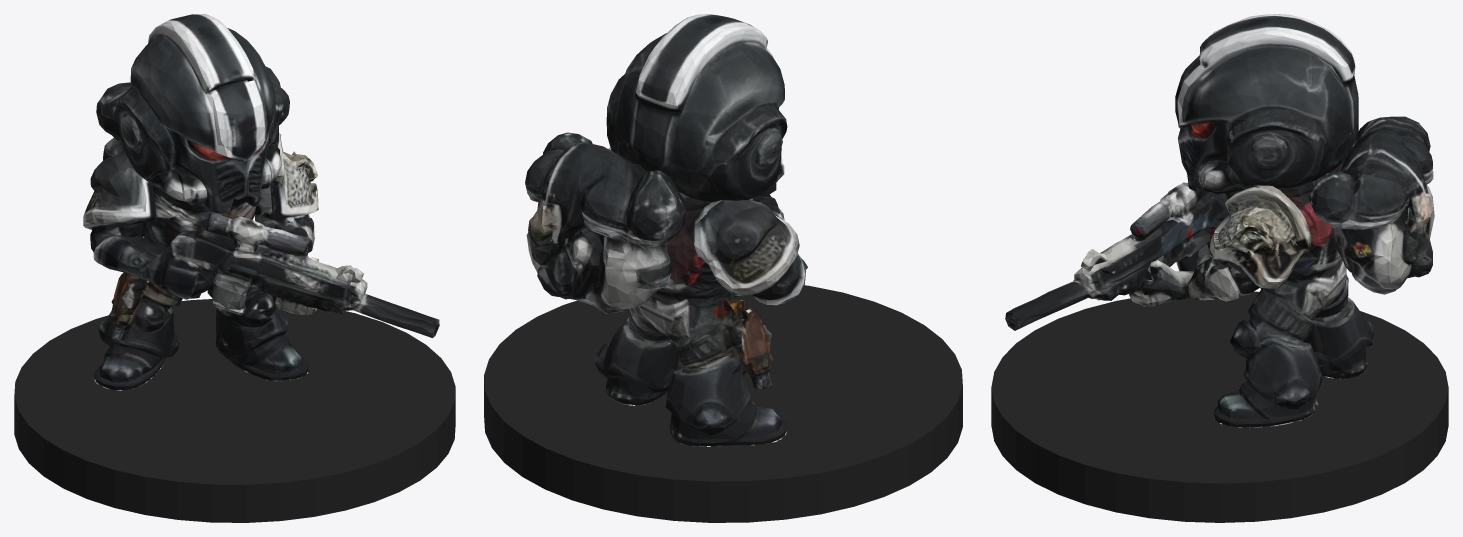
Rendered from dw-intercessor-sergeant.glb.
The picture shows the model from 3 angles, left to right: view 1: azimuth 30°, elevation 25°; view 2: azimuth 150°, elevation 25°; view 3: azimuth 270°, elevation 25°; orthographic projection. The views are drawn at different scales.
Visible parts, largest first — view 1: base, figure; view 2: figure, base; view 3: figure, base.
Part boxes in pixels (x1=…): base: x1=14, y1=299, x2=455, y2=522; figure: x1=83, y1=14, x2=439, y2=390; figure: x1=525, y1=14, x2=807, y2=446; base: x1=484, y1=285, x2=962, y2=522; figure: x1=1005, y1=14, x2=1434, y2=427; base: x1=991, y1=291, x2=1448, y2=522.
Size of the model in its own units: 1.26 by 1.22 by 1.26.
2 materials, 1 textured.
